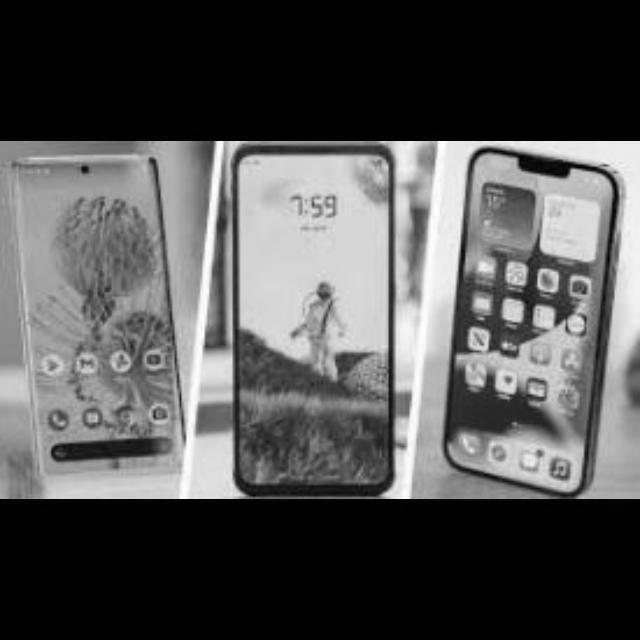fake: (216, 143, 400, 497), (7, 150, 193, 482), (444, 154, 618, 476)
